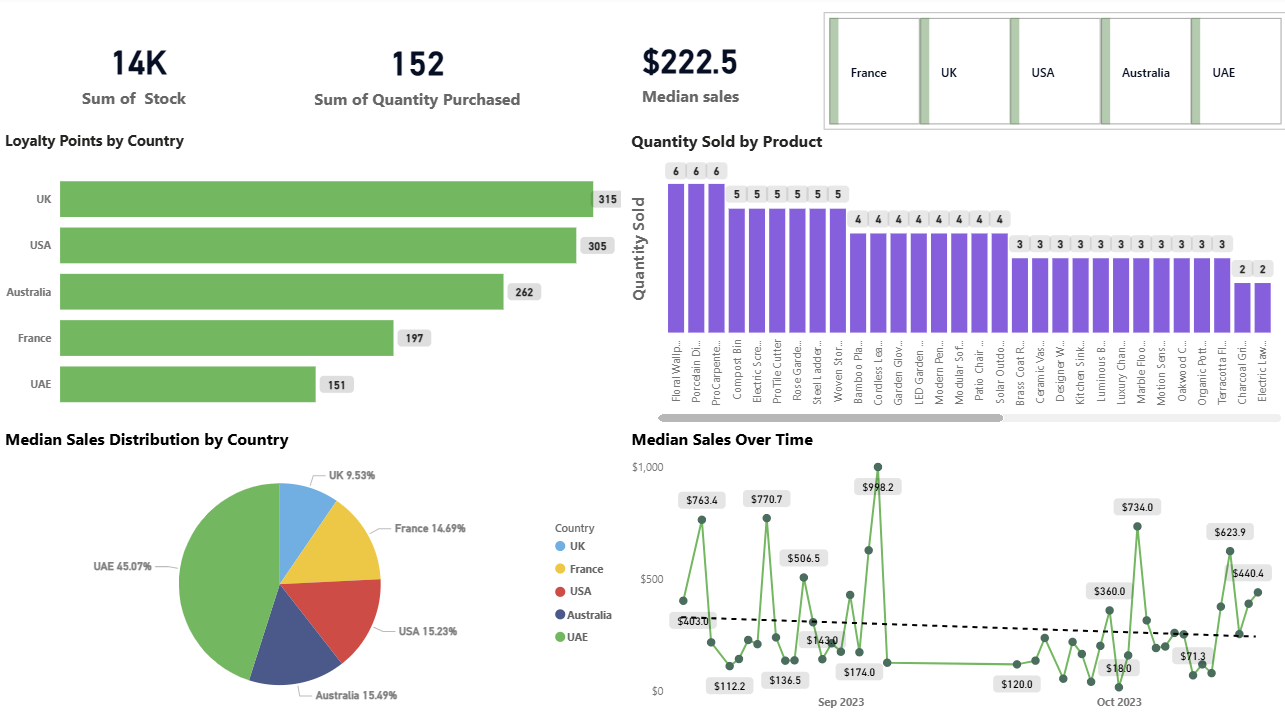

This screenshot's page, from the dashboard's own definition file:
{"tool":"powerbi","page":{"name":"Sales Overview","canvas":[1280,720],"ordinal":0},"visuals":[{"type":"clusteredBarChart","title":"Loyalty Points by Country","fields":{"Category":["Sales in USD.Country Name"],"Y":["Sum(Sales in USD. Loyalty Points)"]},"box":[0,133,623.2,296.1],"z":0,"group":"g1"},{"type":"card","fields":{"Values":["Sum(Sales in USD. Stock  )"]},"box":[0,16.5,275.8,116.6],"z":0},{"type":"clusteredColumnChart","title":"Quantity Sold by Product","fields":{"Category":["Sales in USD.Product Name"],"Y":["Sum(Sales in USD.Quantity Purchased)"]},"box":[623.2,133,656.8,296.1],"z":1000,"group":"g1"},{"type":"advancedSlicerVisual","fields":{"Values":["Sales in USD.Country Name"]},"box":[819.8,16.2,460.3,116.9],"z":1000},{"type":"group","id":"g1","title":"Group 1","box":[0,133,1280,587.2],"z":2000},{"type":"pieChart","title":"Median Sales Distribution by Country","fields":{"Category":["Sales in USD.Country Name"],"Y":["Sales in USD.Median sales"]},"box":[0,429.1,623.2,291.1],"z":2000,"group":"g1"},{"type":"card","fields":{"Values":["Sum(Sales in USD.Quantity Purchased)"]},"box":[275.8,17.8,278.6,116.6],"z":3000},{"type":"lineChart","title":"Median Sales Over Time","fields":{"Y":["Sales in USD.Median sales"],"Category":["CalendarTable.Date.Variation.Date Hierarchy.Year","CalendarTable.Date.Variation.Date Hierarchy.Quarter","CalendarTable.Date.Variation.Date Hierarchy.Month","CalendarTable.Date.Variation.Date Hierarchy.Day"]},"box":[623.2,429.1,656.8,291.1],"z":3000,"group":"g1"},{"type":"card","fields":{"Values":["Sales in USD.Median sales"]},"box":[554.4,15.1,264.8,116.6],"z":4000}]}

Visuals, with their boxes in screenshot pixels (x1, y1, x2, y2), scaled from the page's 1280x720 canvas onto the 1285x717 screenshot:
"Loyalty Points by Country" clusteredBarChart: x1=0 y1=132 x2=626 y2=427
card - Sum(Sales in USD. Stock  ): x1=0 y1=16 x2=277 y2=133
"Quantity Sold by Product" clusteredColumnChart: x1=626 y1=132 x2=1284 y2=427
advancedSlicerVisual - Sales in USD.Country Name: x1=823 y1=16 x2=1284 y2=133
"Group 1" group: x1=0 y1=132 x2=1284 y2=716
"Median Sales Distribution by Country" pieChart: x1=0 y1=427 x2=626 y2=716
card - Sum(Sales in USD.Quantity Purchased): x1=277 y1=18 x2=557 y2=134
"Median Sales Over Time" lineChart: x1=626 y1=427 x2=1284 y2=716
card - Sales in USD.Median sales: x1=557 y1=15 x2=822 y2=131
